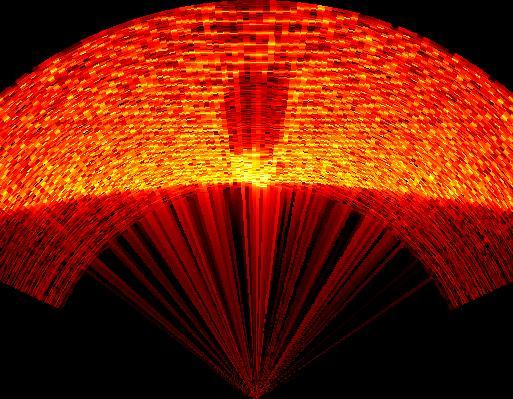box_crate: (225, 58, 292, 186)
